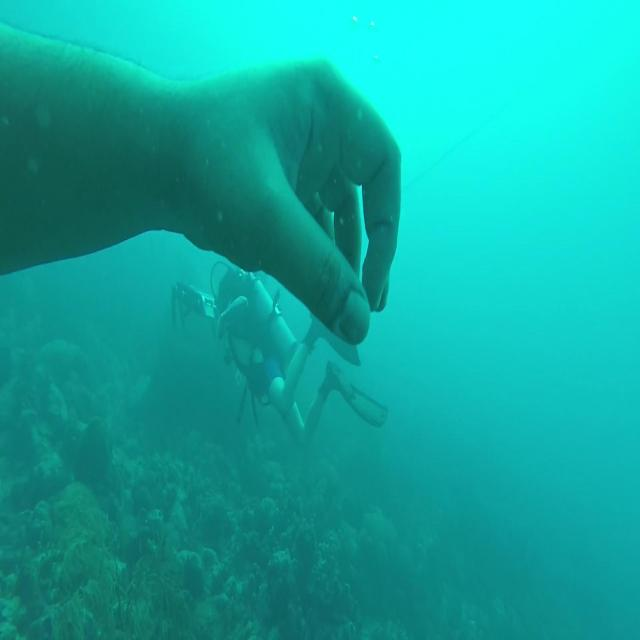human: (0, 19, 402, 354), (171, 259, 388, 450)
